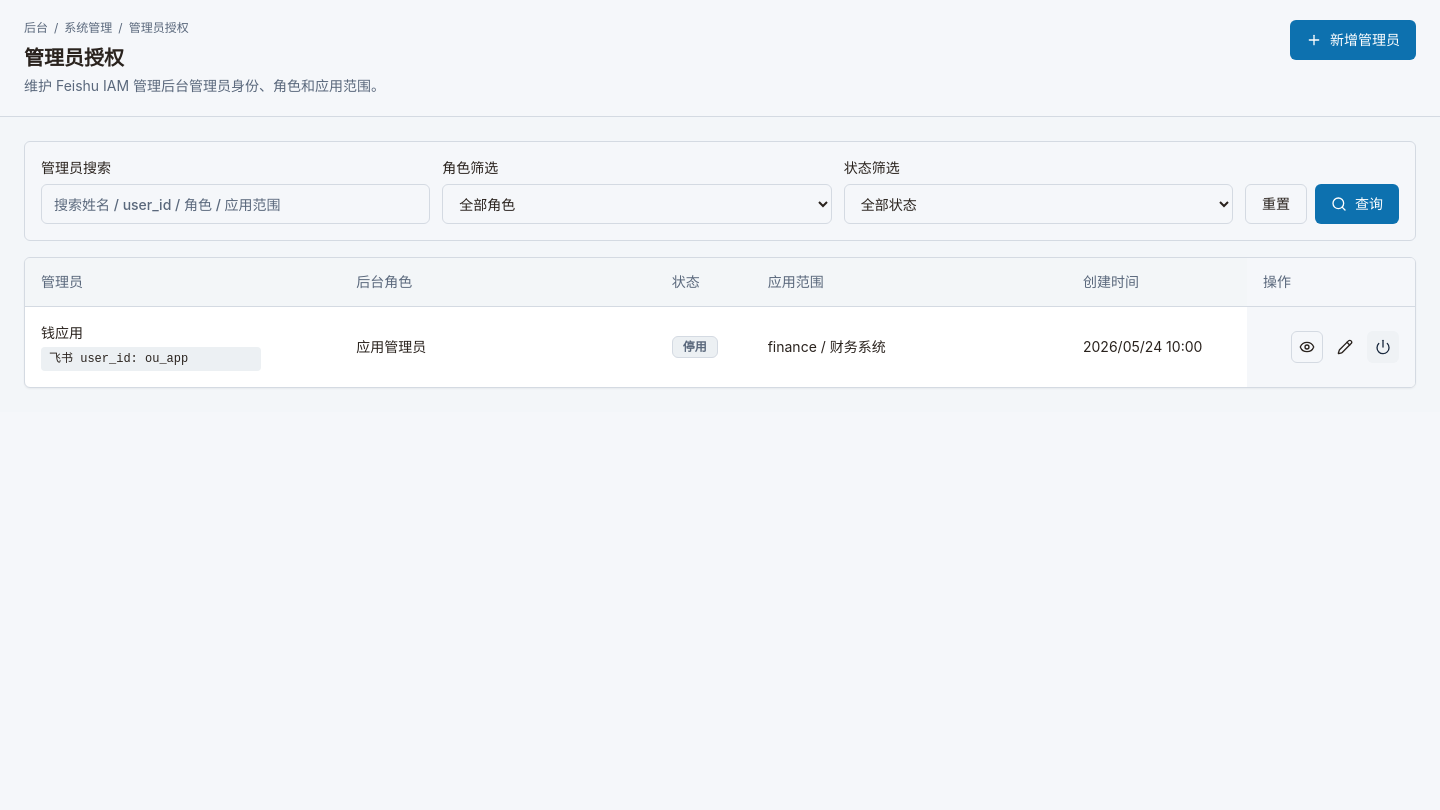
AdminAuthorizationView › 启用停用管理员时保留失败错误并支持启用流程
Expected: the text "钱应用" is shown, [41, 324, 83, 340]
Click the button named "启用" at (1383, 346), box [1367, 330, 1399, 362]
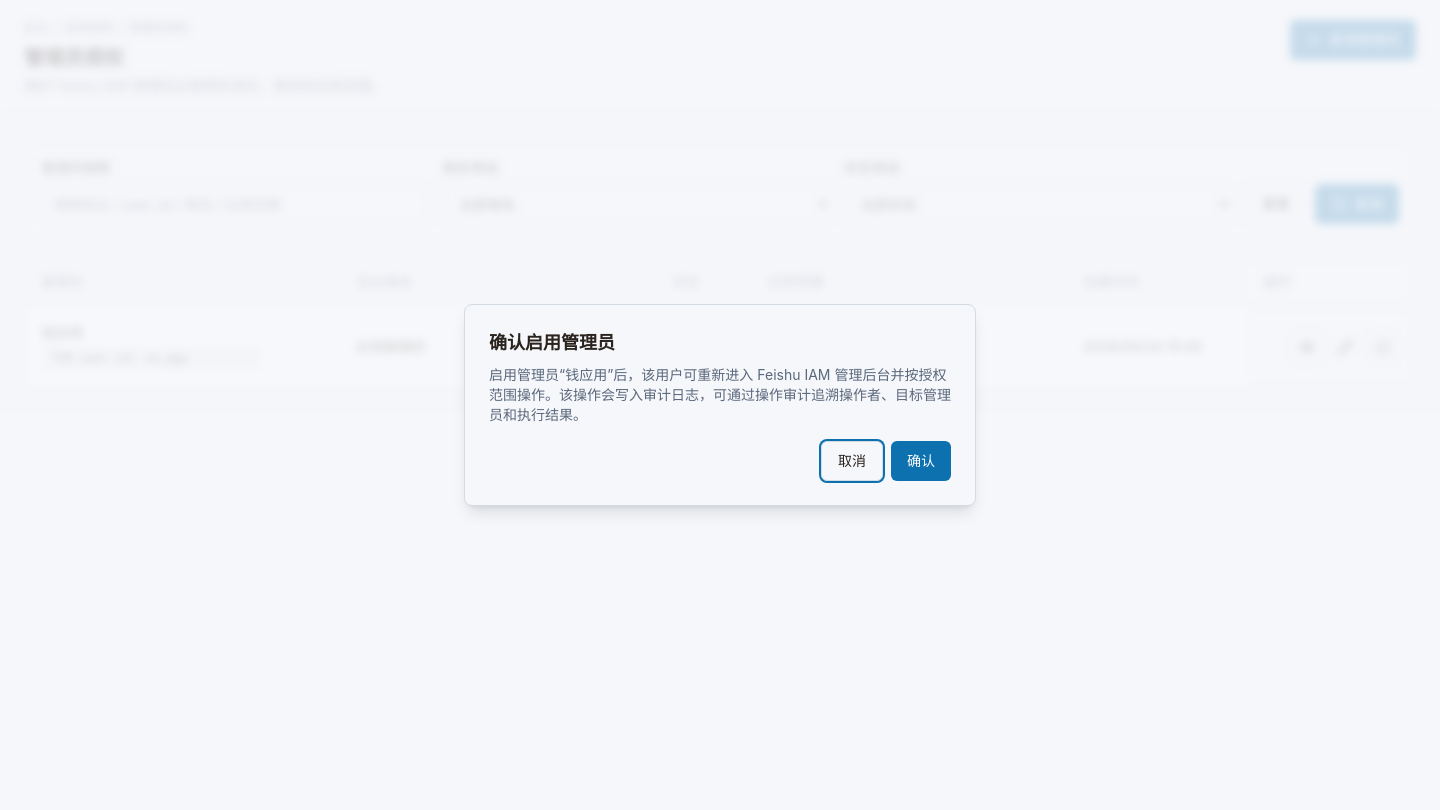
Click the button "确认" at (921, 461), box [891, 441, 951, 481]
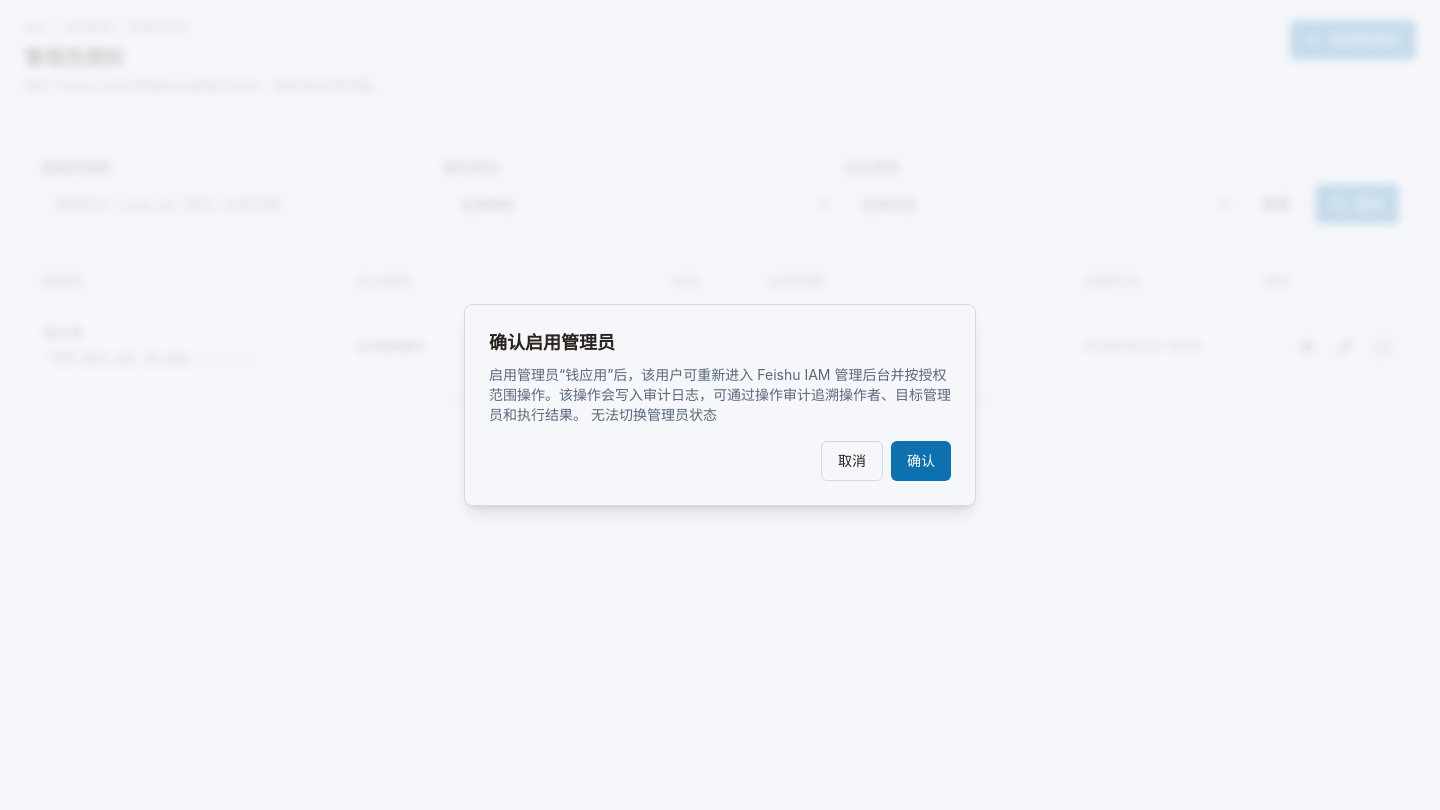
Expected: the dialog "确认启用管理员" is shown, [464, 304, 976, 506]
Expected: the text "无法切换管理员状态" is shown, [489, 366, 951, 423]
